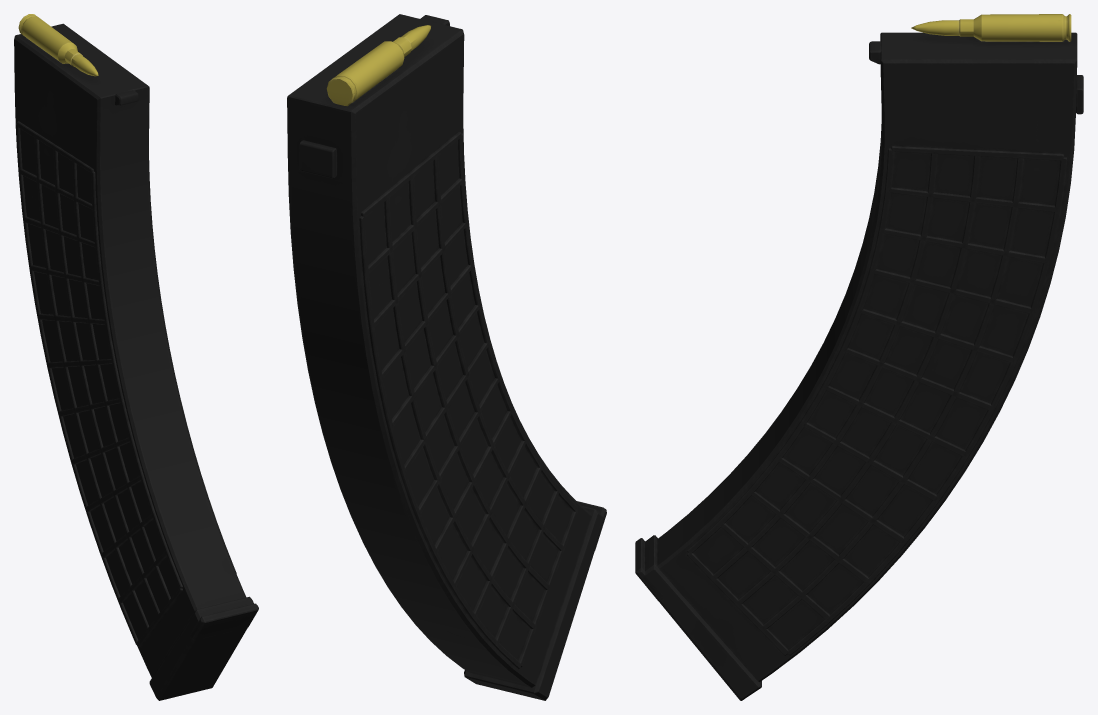
Rendered from Mag_AK12_Ext.fbx.
The picture shows the model from 3 angles, left to right: view 1: azimuth 30°, elevation 25°; view 2: azimuth 150°, elevation 25°; view 3: azimuth 270°, elevation 25°; orthographic projection. The views are drawn at different scales.
Visible parts, largest first — view 1: Body; view 2: Body; view 3: Body.
Part boxes in pixels (x1,y1,x2,y2): Body: [14, 14, 258, 700]; Body: [287, 14, 606, 700]; Body: [635, 14, 1083, 700].
Size of the model in its own units: 0.027 by 0.2602 by 0.1592.
